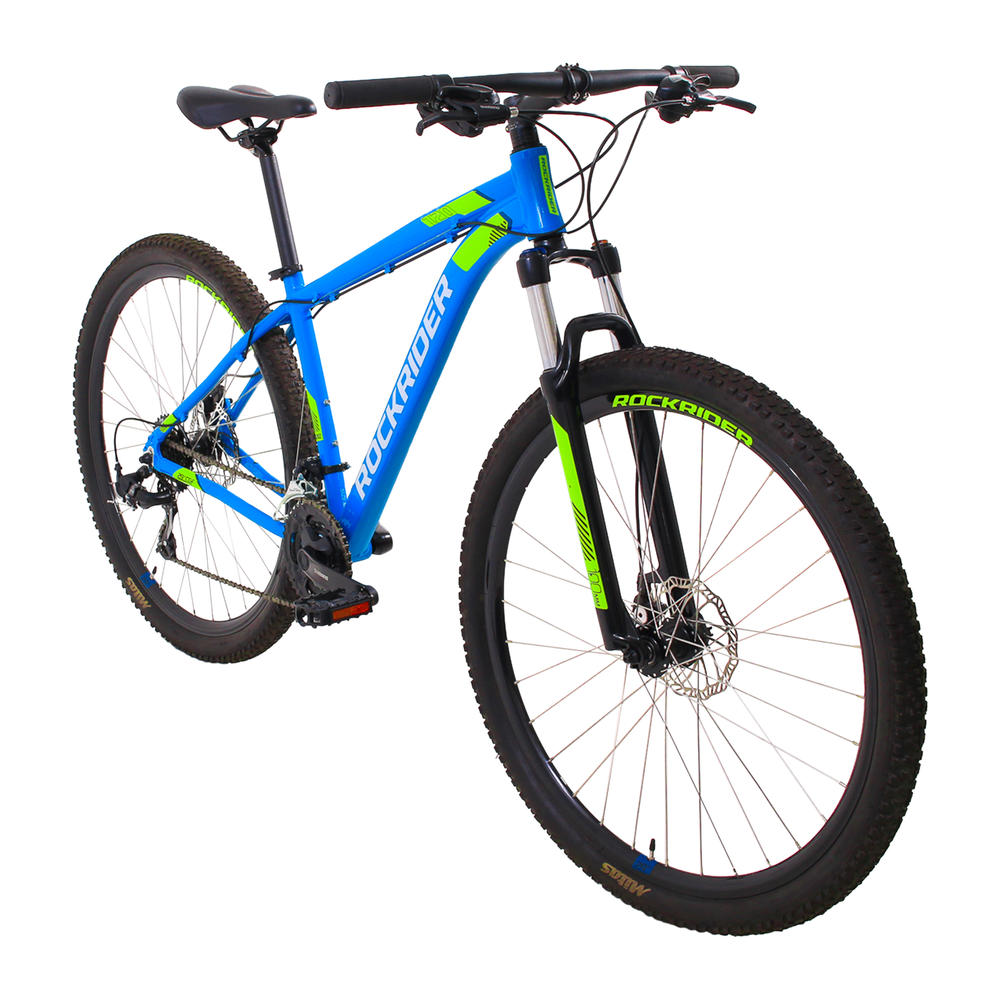MountainBike: (79, 55, 920, 940)
